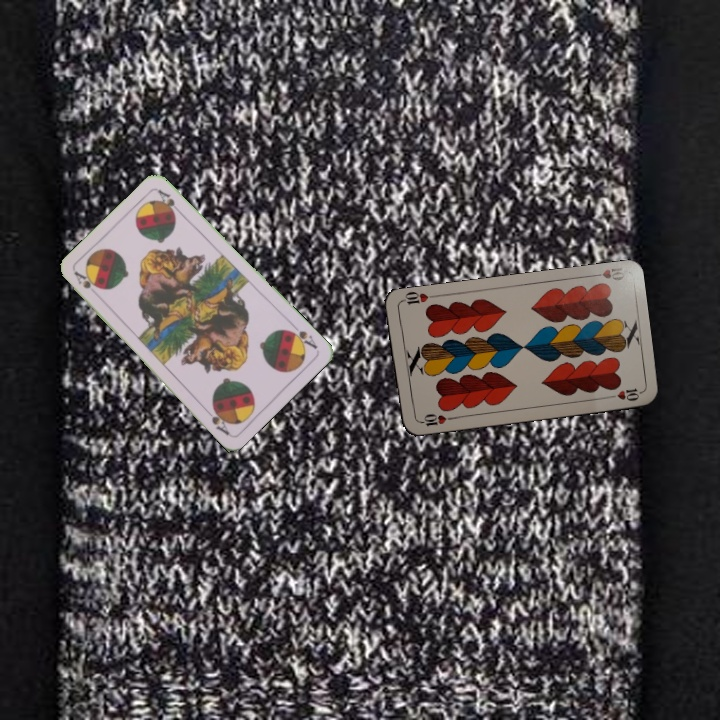H10: (586, 263, 627, 284), (415, 409, 455, 429)
SA: (283, 320, 320, 352), (70, 267, 98, 291)
